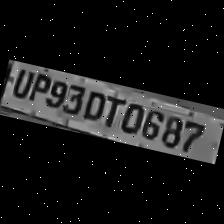0: (117, 98, 146, 137)
3: (61, 80, 87, 116)
6: (137, 105, 164, 144)
7: (178, 117, 207, 156)
8: (157, 112, 186, 150)
9: (43, 75, 69, 111)
D: (80, 87, 108, 125)
P: (26, 70, 51, 106)
T: (98, 92, 124, 132)
U: (8, 66, 34, 102)
